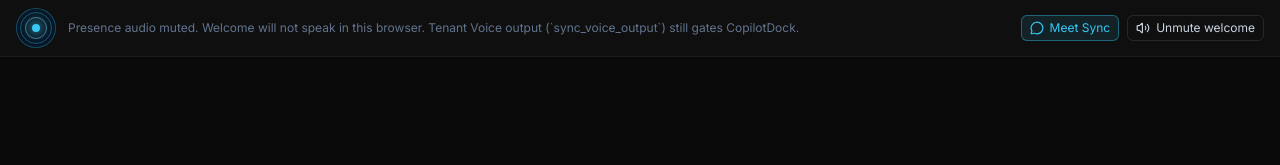
Test: PresenceWelcome › keeps Meet Sync available when welcome audio is muted
This screenshot has width=1280, height=165.
Step 1. Click the button "Meet Sync" → (1070, 28), box [1021,15,1119,41]
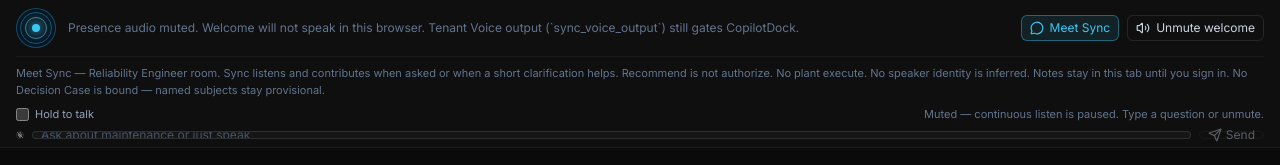
Result: the element with test id "presence-booth" is shown at [16,56,1264,138]
